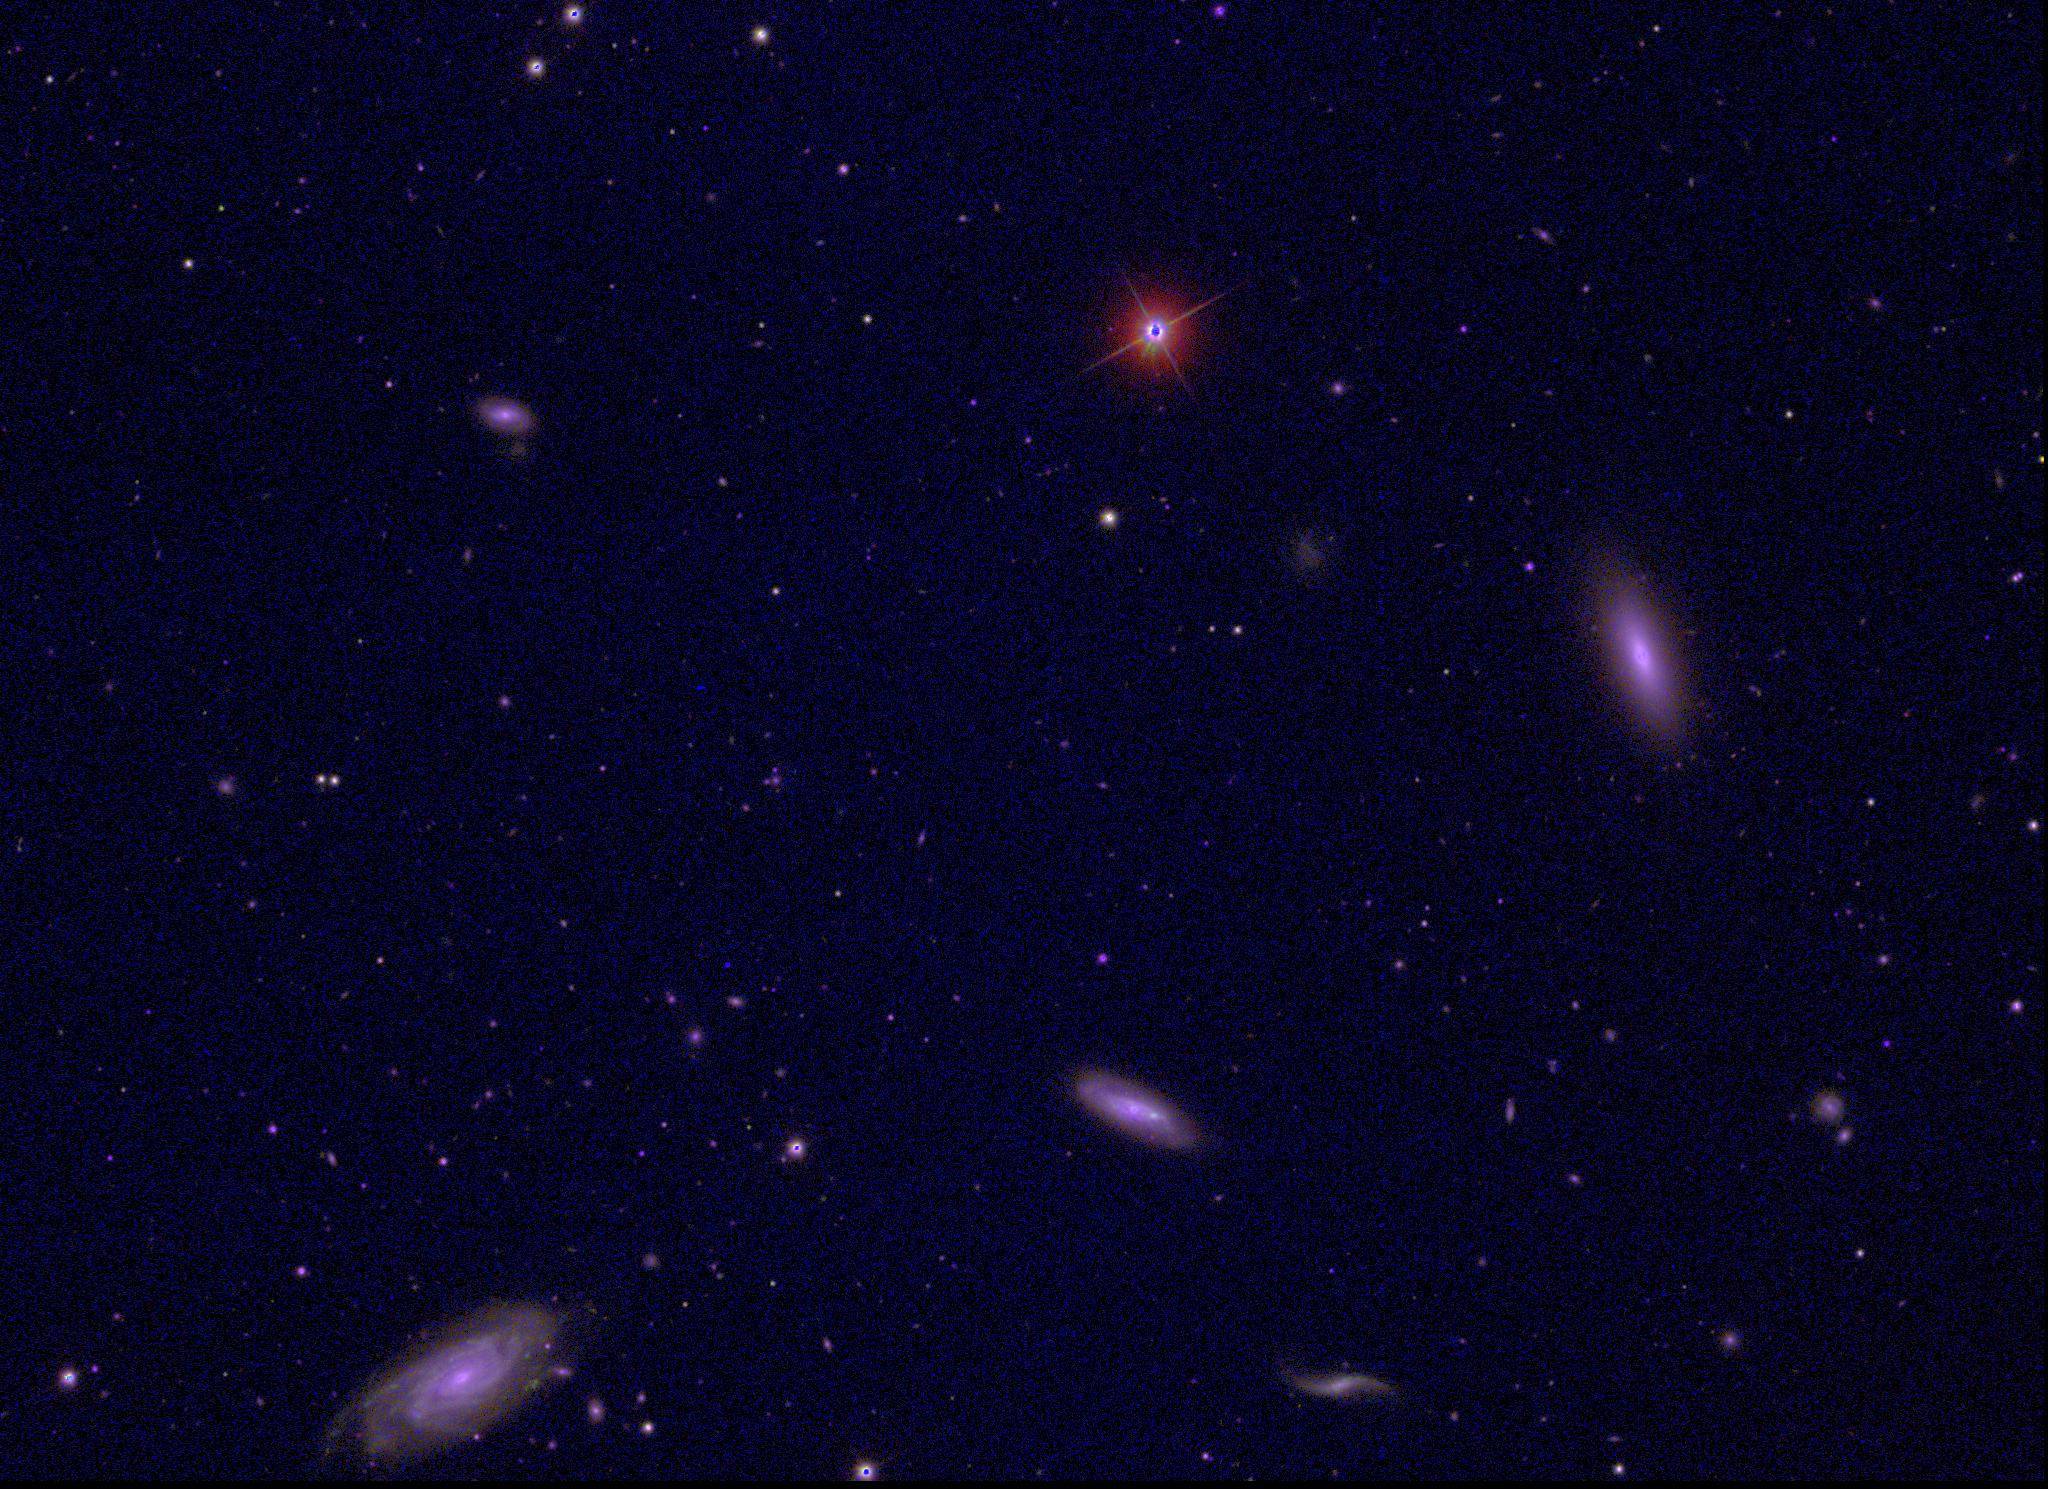L: (720, 956, 735, 970)
